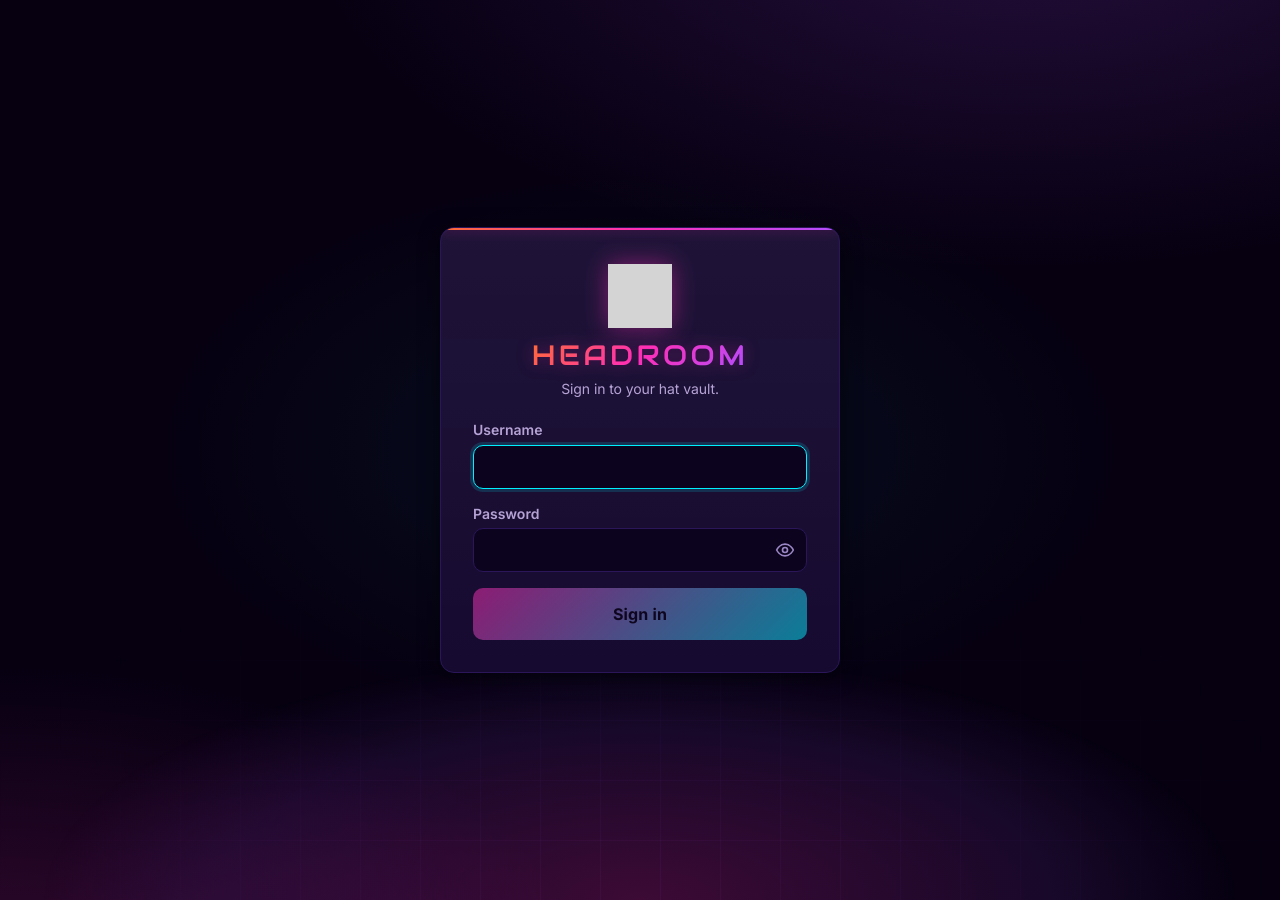
LoginPage polish › never blames a passkey for a failed PASSWORD sign-in
Type "brandon" into the field labelled "Username" at x=640, y=467, box x1=473 y1=445 x2=807 y2=489
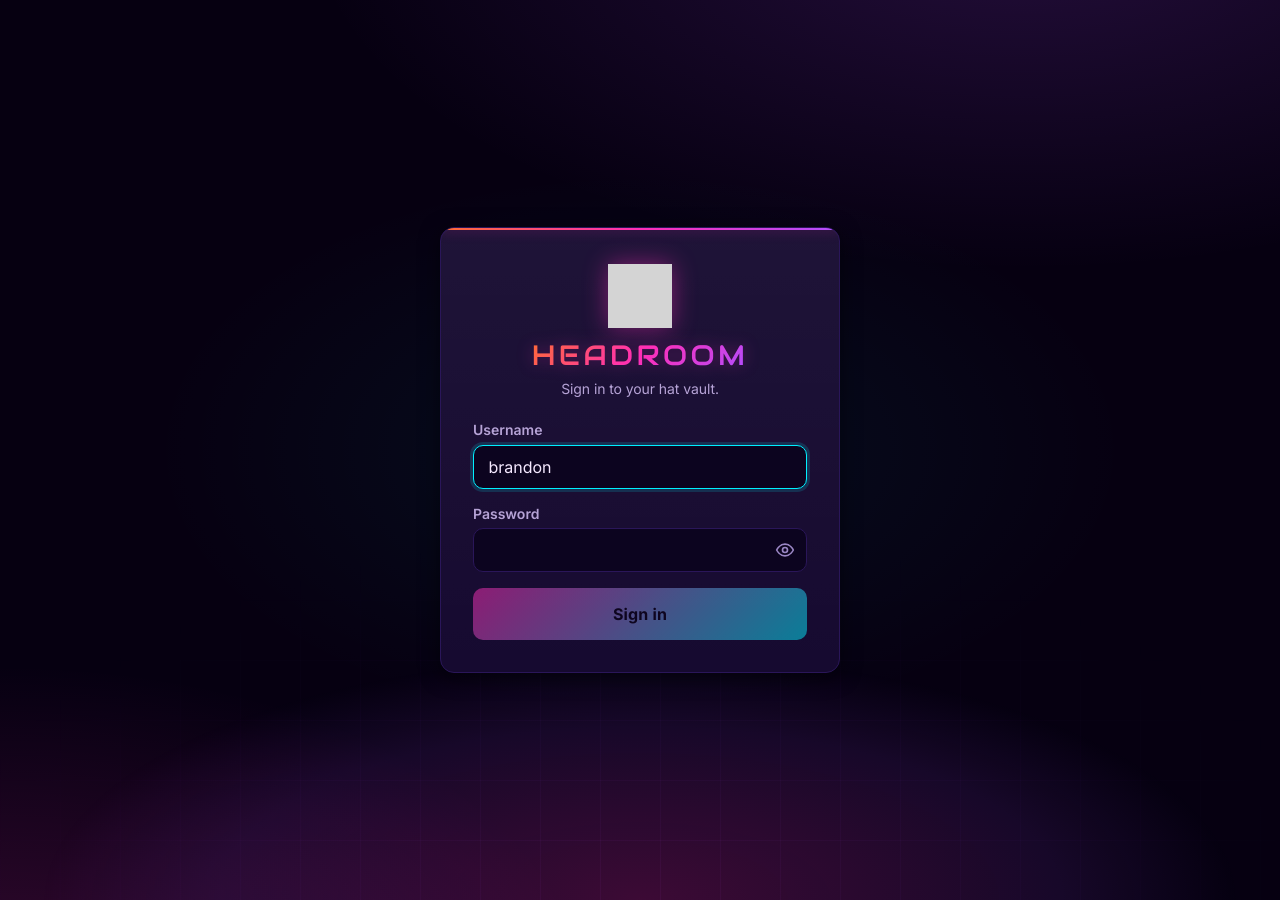
Type "hunter2hunter2" into the password field labelled "Password" at x=640, y=550, box x1=473 y1=528 x2=807 y2=572
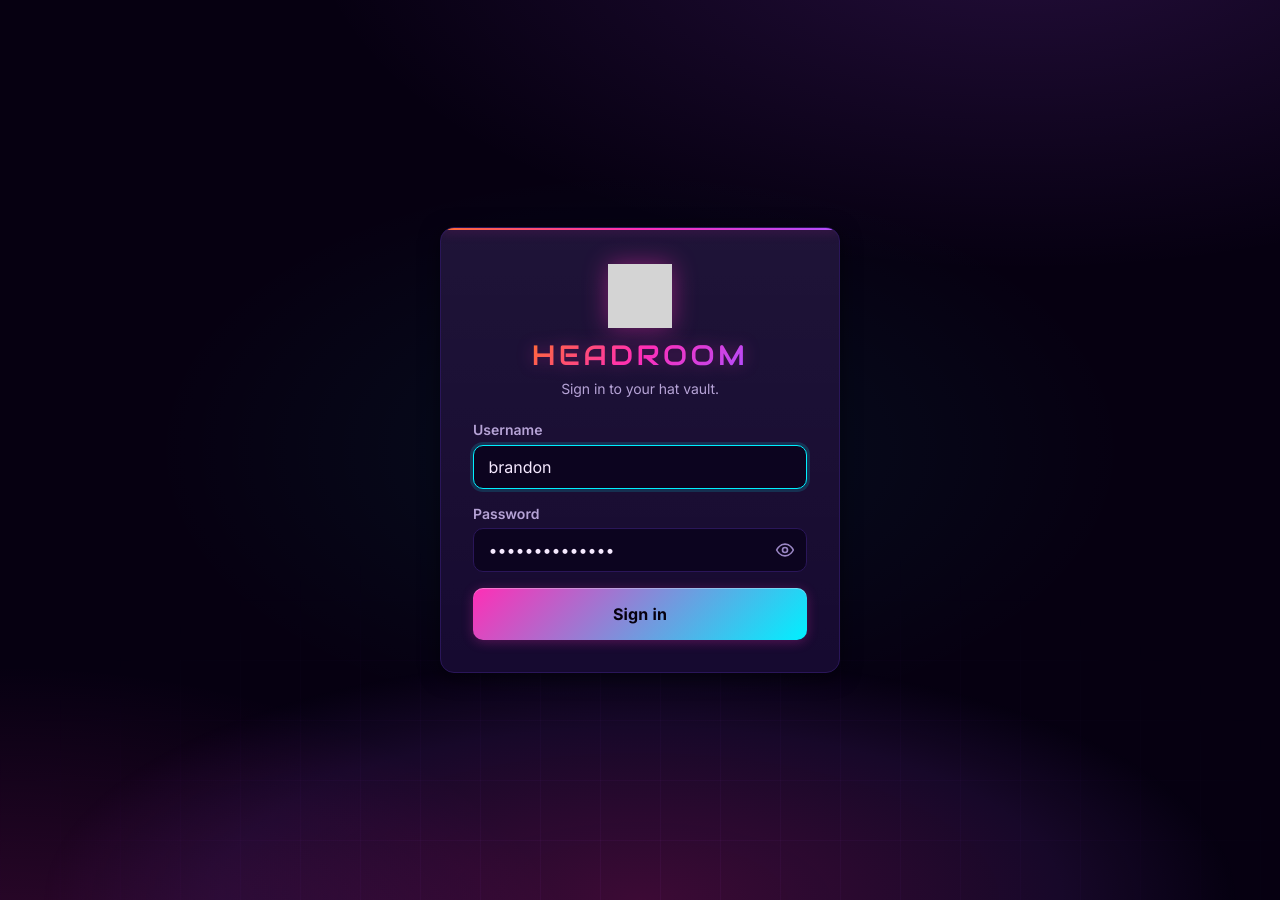
Click the button "Sign in" at x=640, y=614, box x1=473 y1=588 x2=807 y2=640
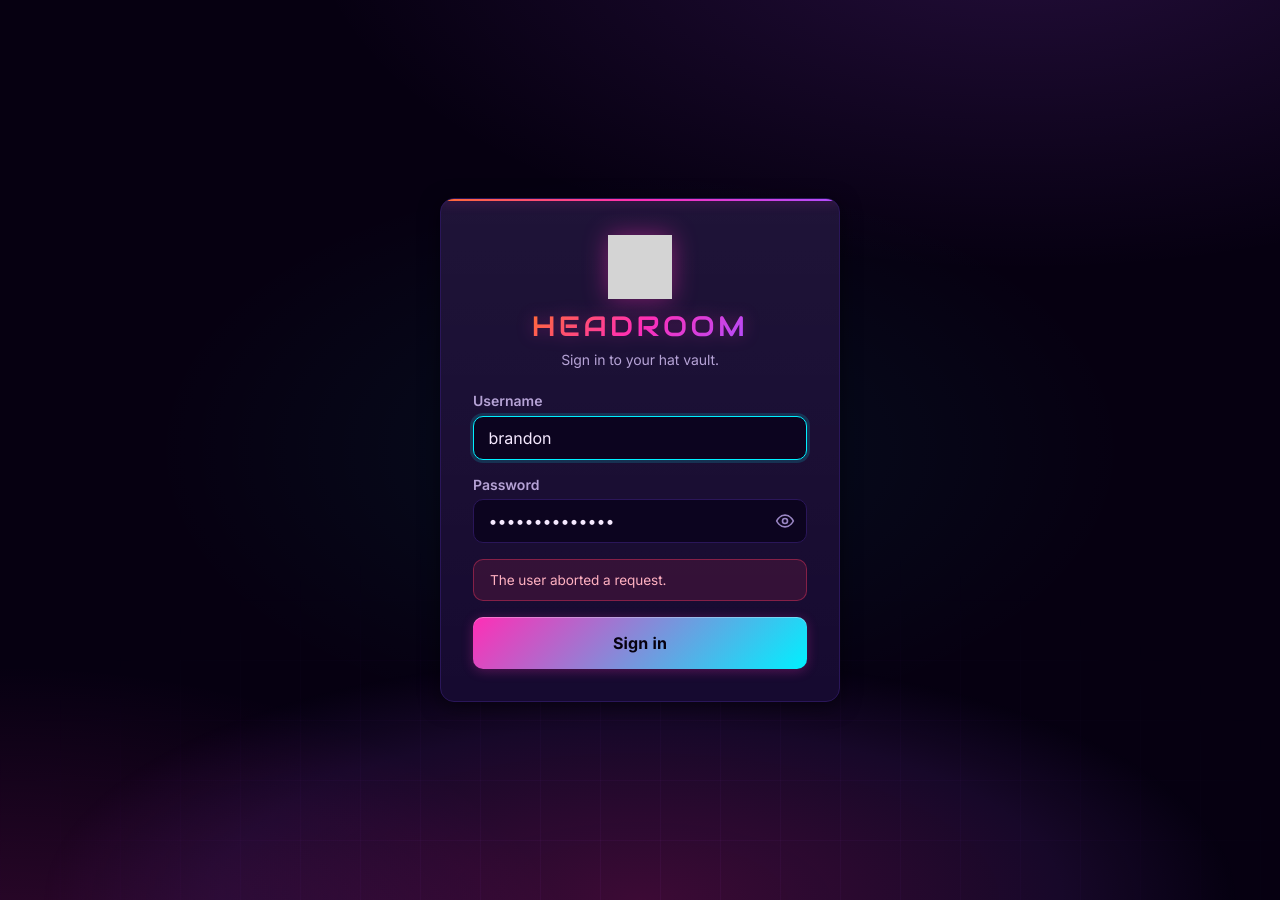
expect the message does not show "passkey": met, box x1=473 y1=559 x2=807 y2=601
expect the message reads "The user aborted a request.": met, box x1=490 y1=572 x2=666 y2=588
